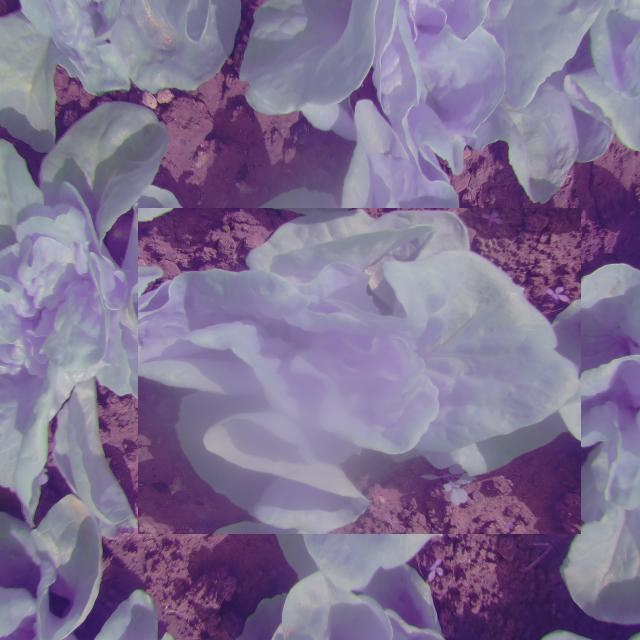vege: (167, 179, 552, 564)
